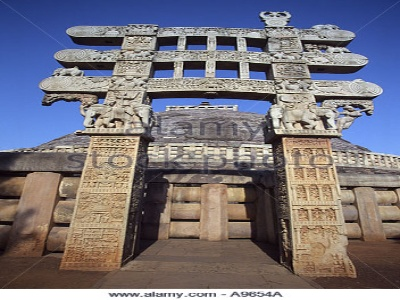torana: (42, 11, 369, 265)
